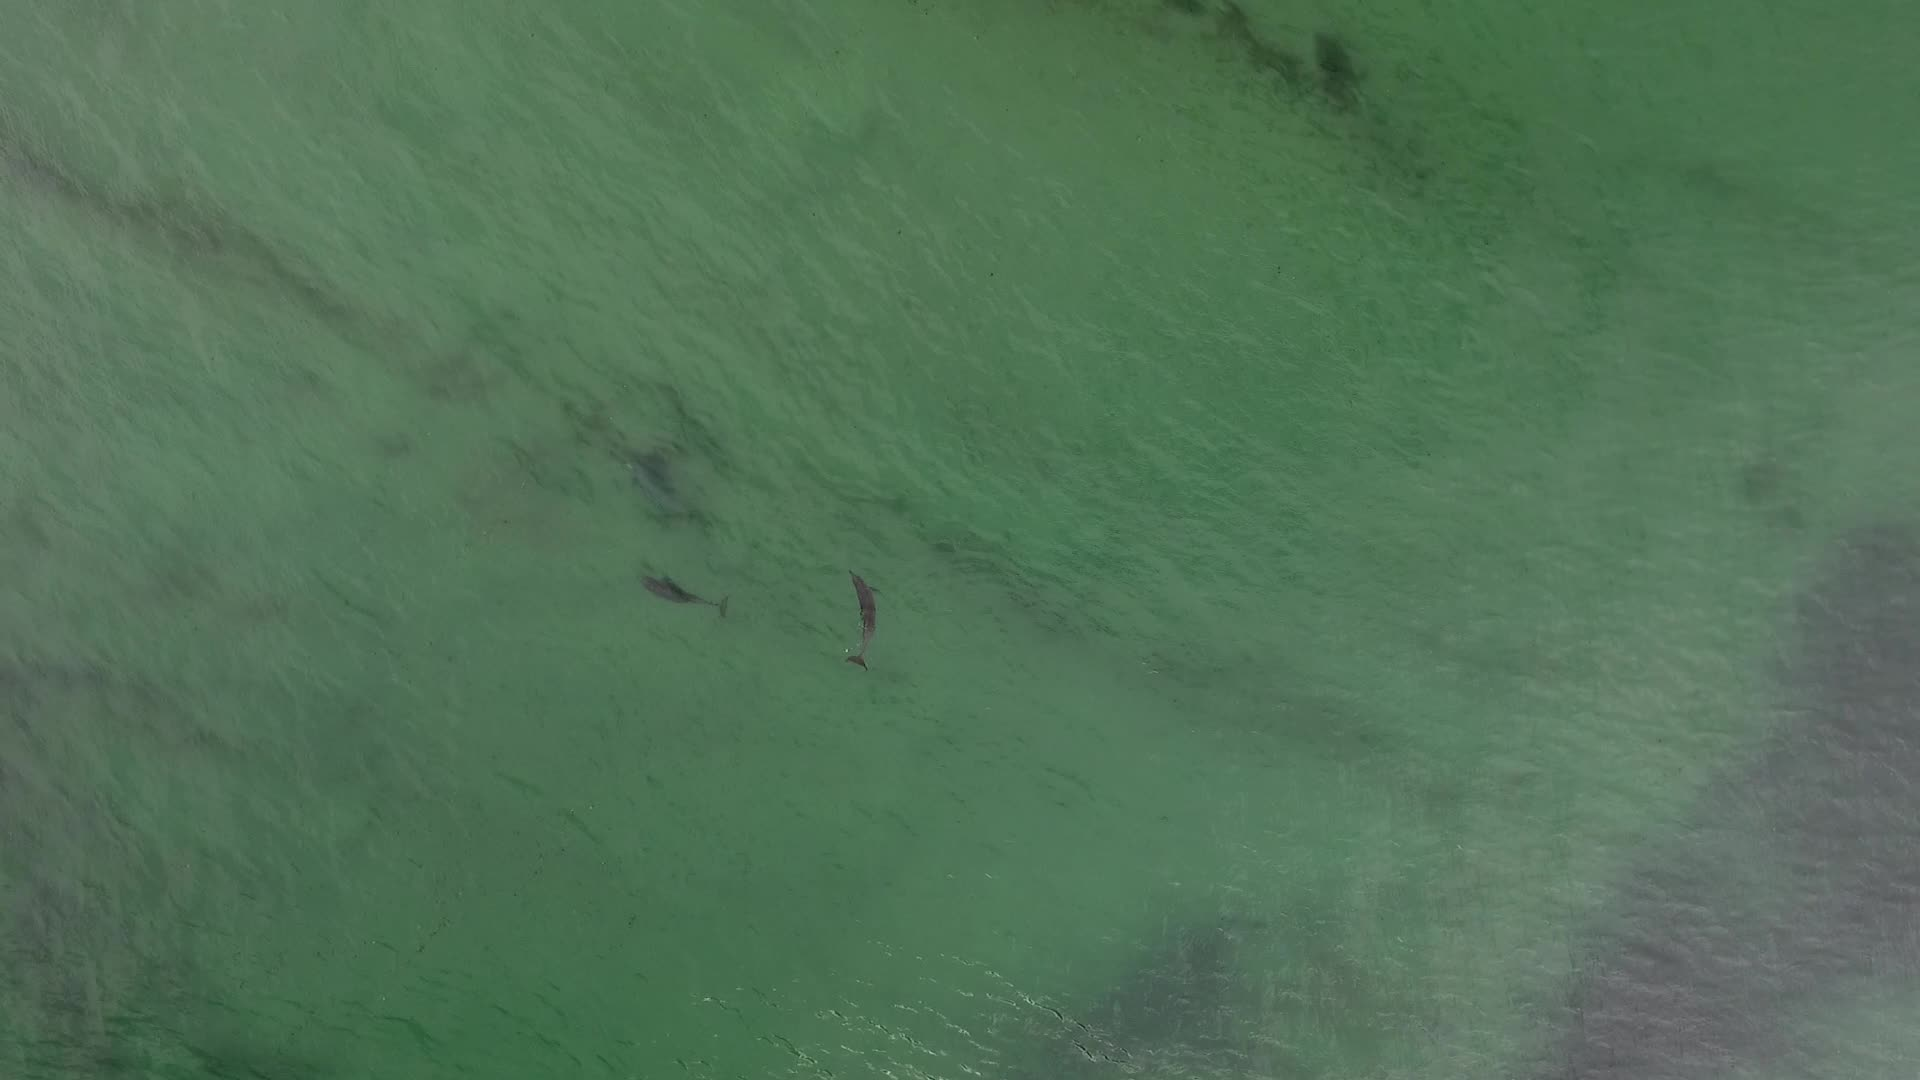dolphin: (616, 551, 741, 628), (815, 560, 895, 678)
